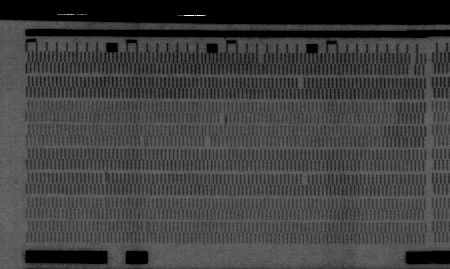Broken hole: (407, 53, 419, 76), (255, 52, 267, 65), (201, 136, 214, 148), (298, 173, 310, 185), (218, 113, 229, 126), (296, 77, 306, 89)
Oblique printing: (99, 171, 111, 186), (138, 136, 150, 148), (140, 221, 151, 231)
